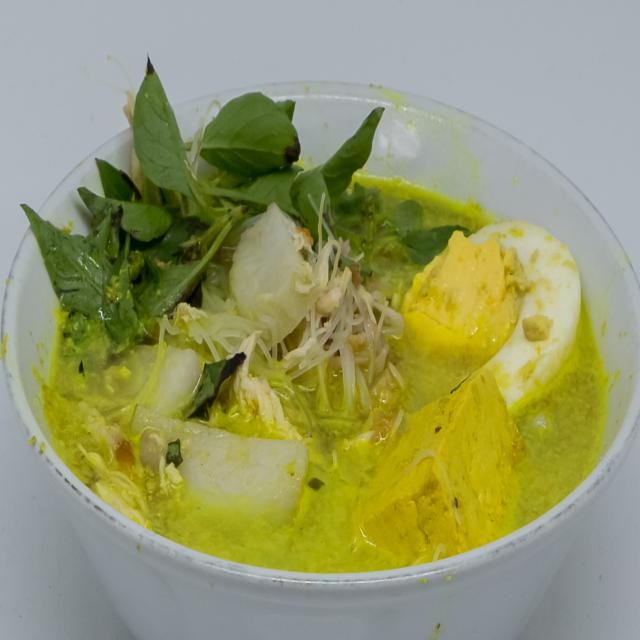Laksa-Bogor: (27, 47, 603, 580)
